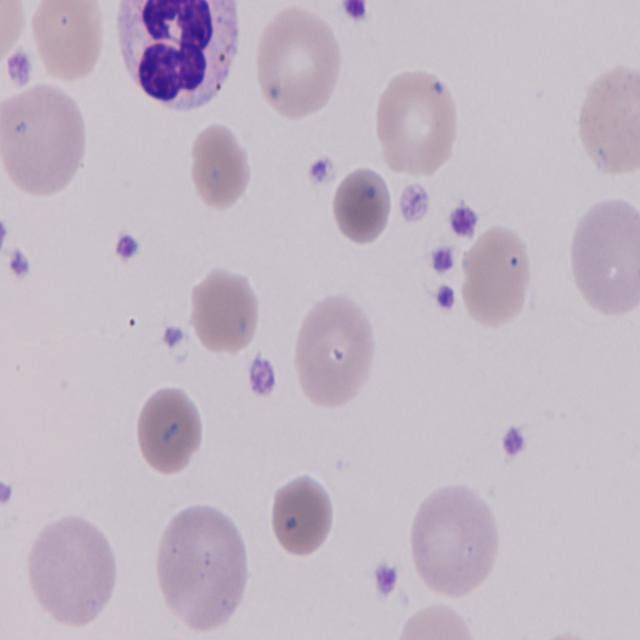RBC: (148, 501, 252, 640), (410, 480, 505, 600), (250, 1, 344, 122), (26, 508, 116, 630), (371, 62, 464, 180), (0, 78, 88, 202), (289, 288, 376, 412), (568, 194, 638, 332), (458, 224, 536, 330), (576, 59, 640, 182), (188, 262, 265, 358), (264, 475, 343, 568), (26, 0, 109, 83), (132, 386, 205, 480), (183, 120, 254, 213), (389, 597, 489, 640), (0, 0, 30, 71)
Spherocyte: (330, 164, 398, 254)
WBC: (109, 0, 245, 127)
